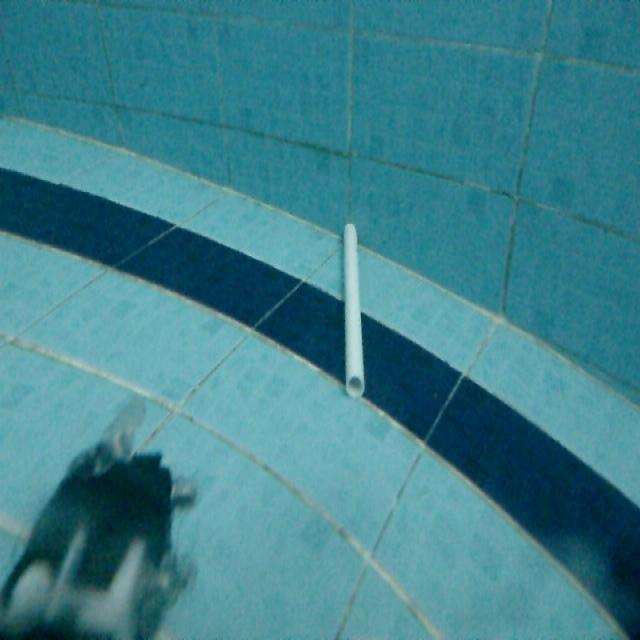Cube: (338, 217, 368, 400)
